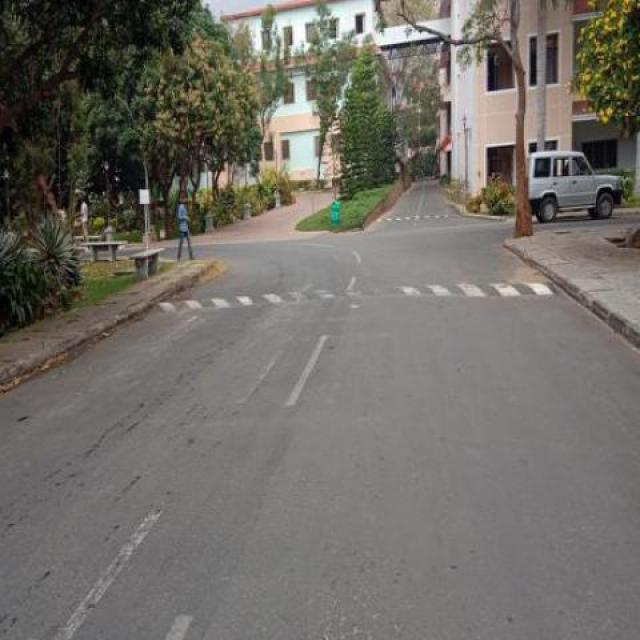Speed Bump: (155, 274, 557, 316)
